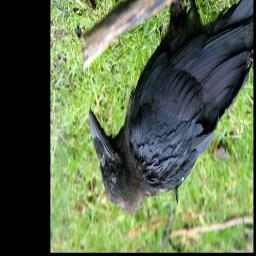Crow: (87, 0, 253, 214)
